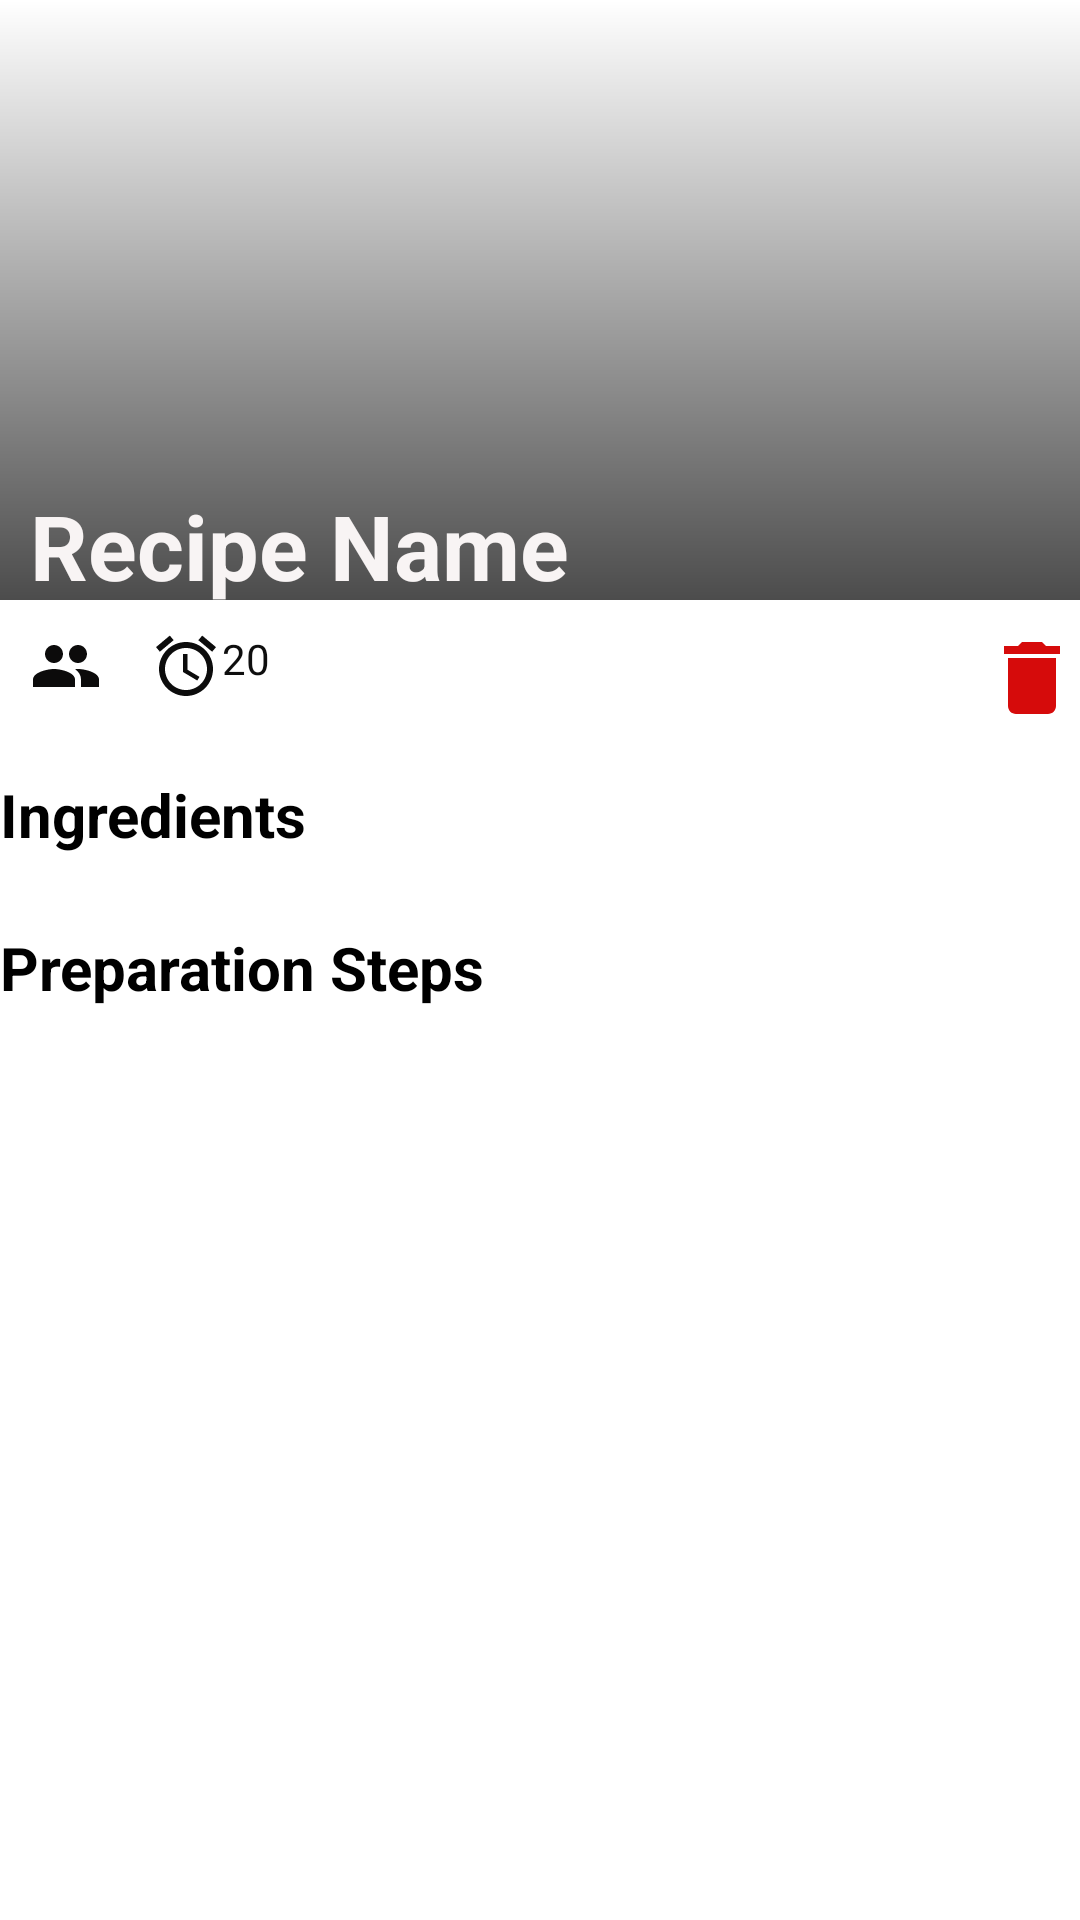

Named icons in this screenshot (1080 × 1920) and their bounding boxes, (x1, y1, x2, y2):
delete: (1004, 642, 1060, 714)
